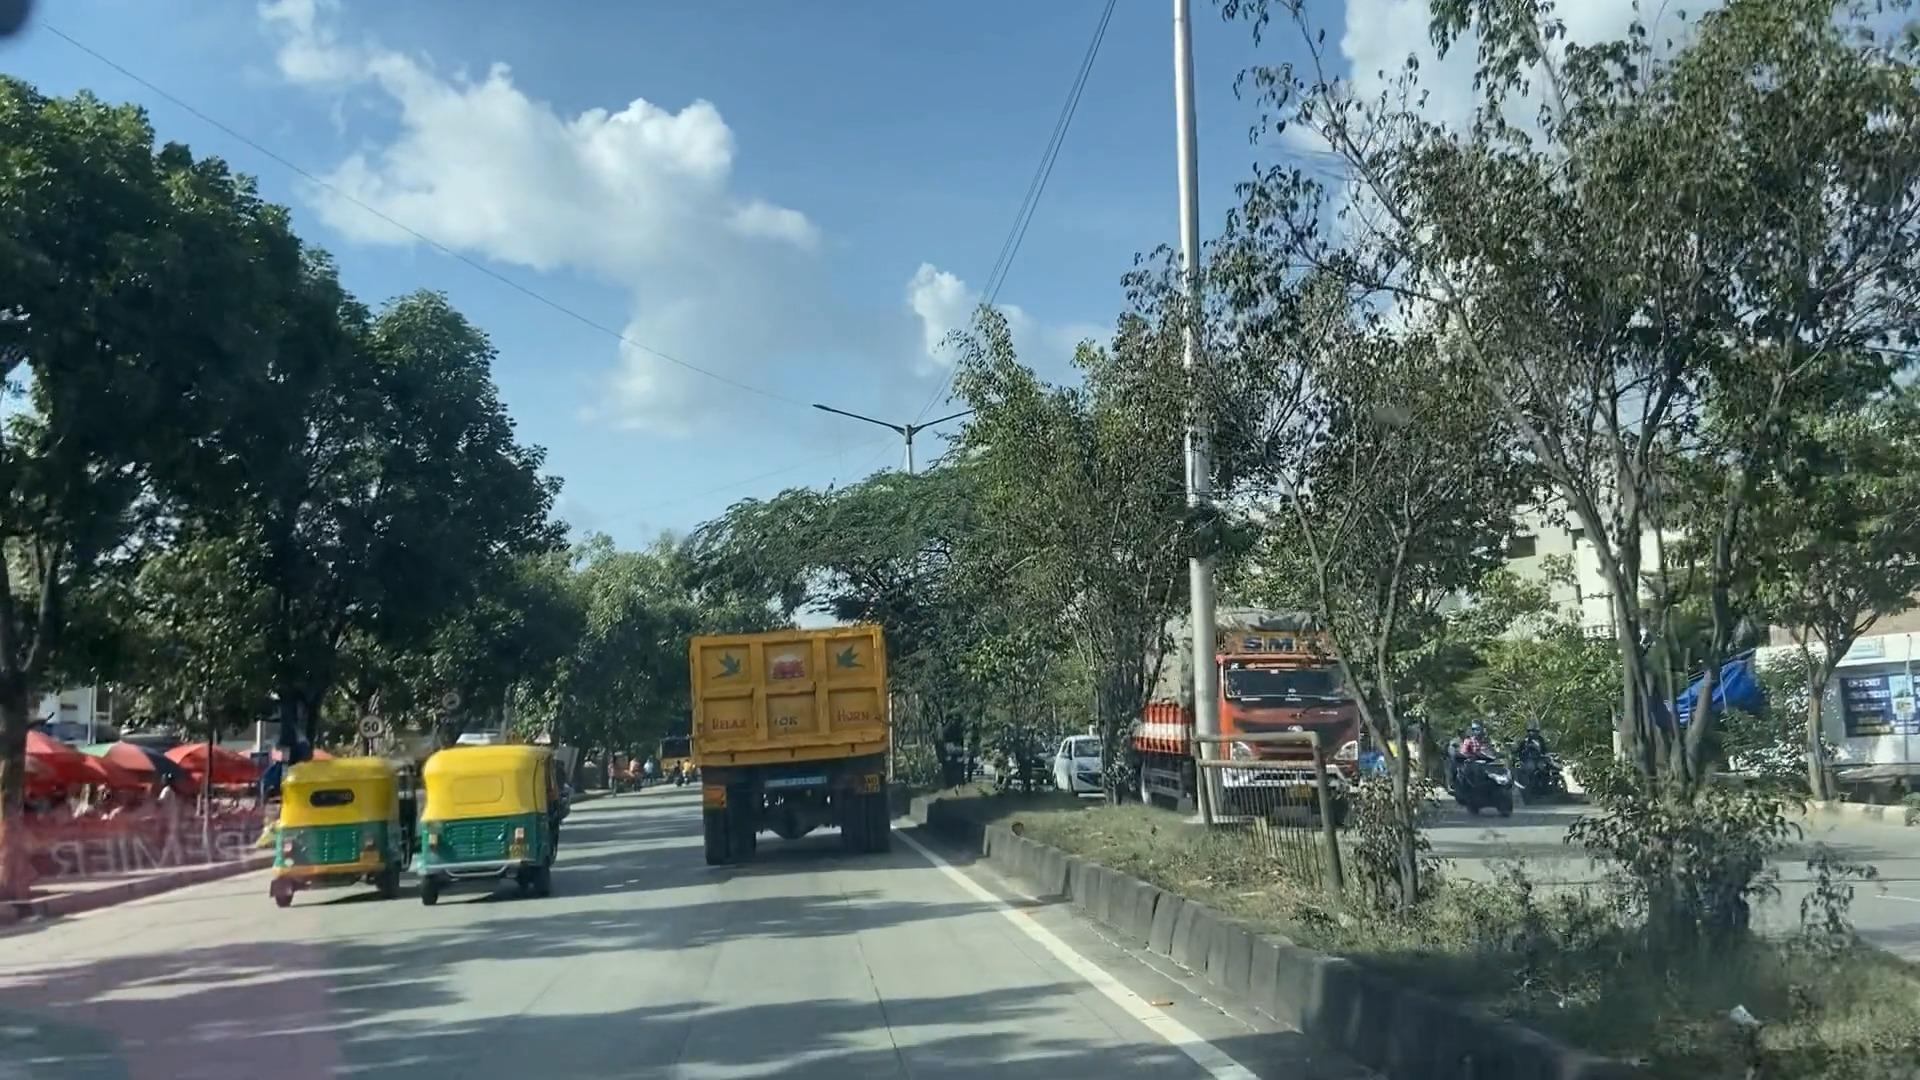HMV: (688, 629, 903, 855)
LMV: (272, 758, 429, 897), (434, 735, 556, 895)
